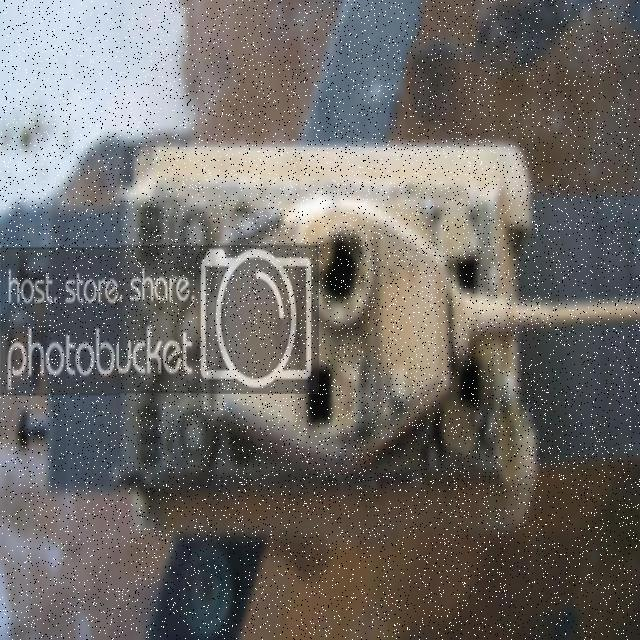MIL_MBT: (120, 148, 541, 539)
